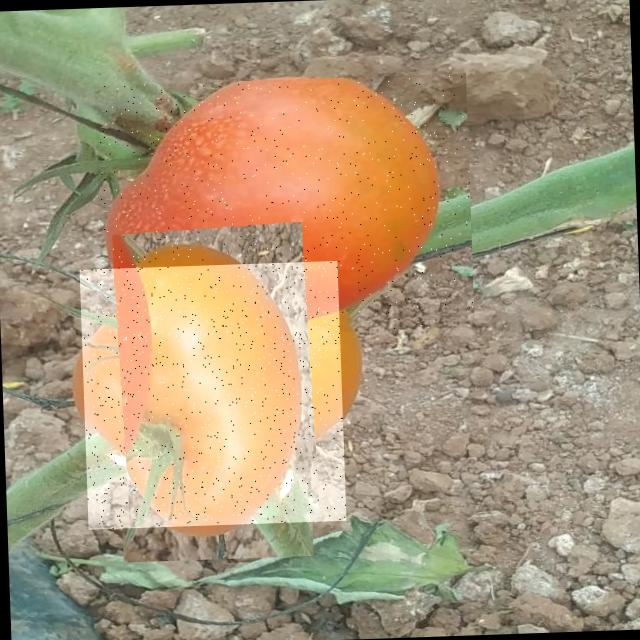Ripe Tomato: (93, 73, 474, 340), (79, 260, 346, 530)
